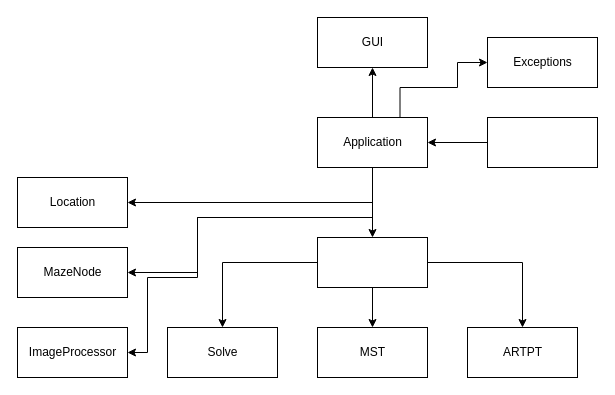
The diagram is 615 pixels wide and 395 high, and some of its shapes have lost their labels. The shapes that lost their labels are listed below. From the top down, each one's centre as x and y in pixels, then its label:
the point at 542,142: Parser
the point at 372,262: Algorithm
